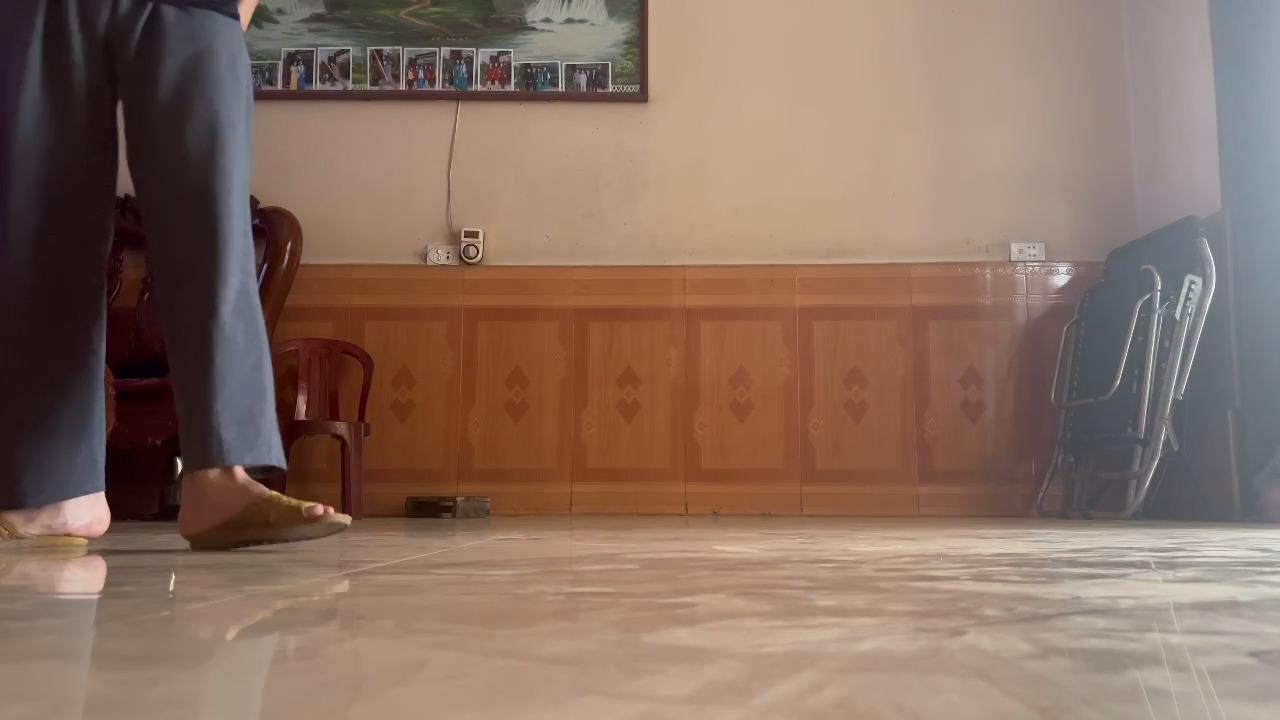no-boot: (170, 477, 360, 556), (0, 485, 123, 558)
